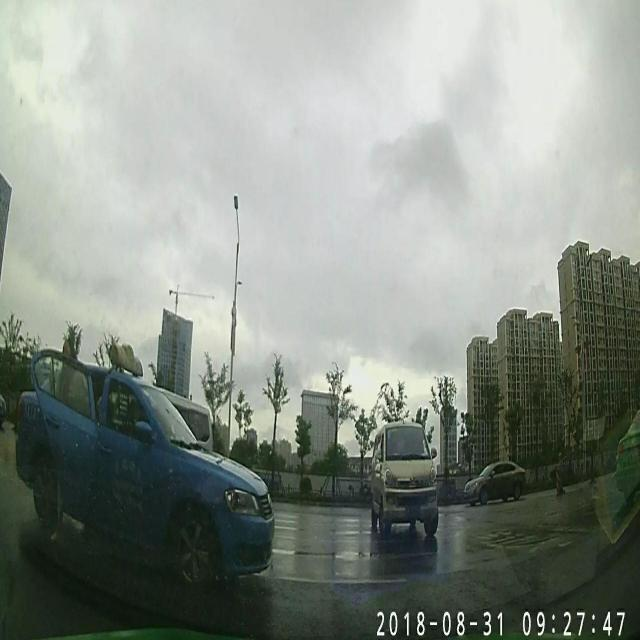car: (14, 344, 274, 580), (370, 422, 438, 538), (464, 462, 524, 506)
